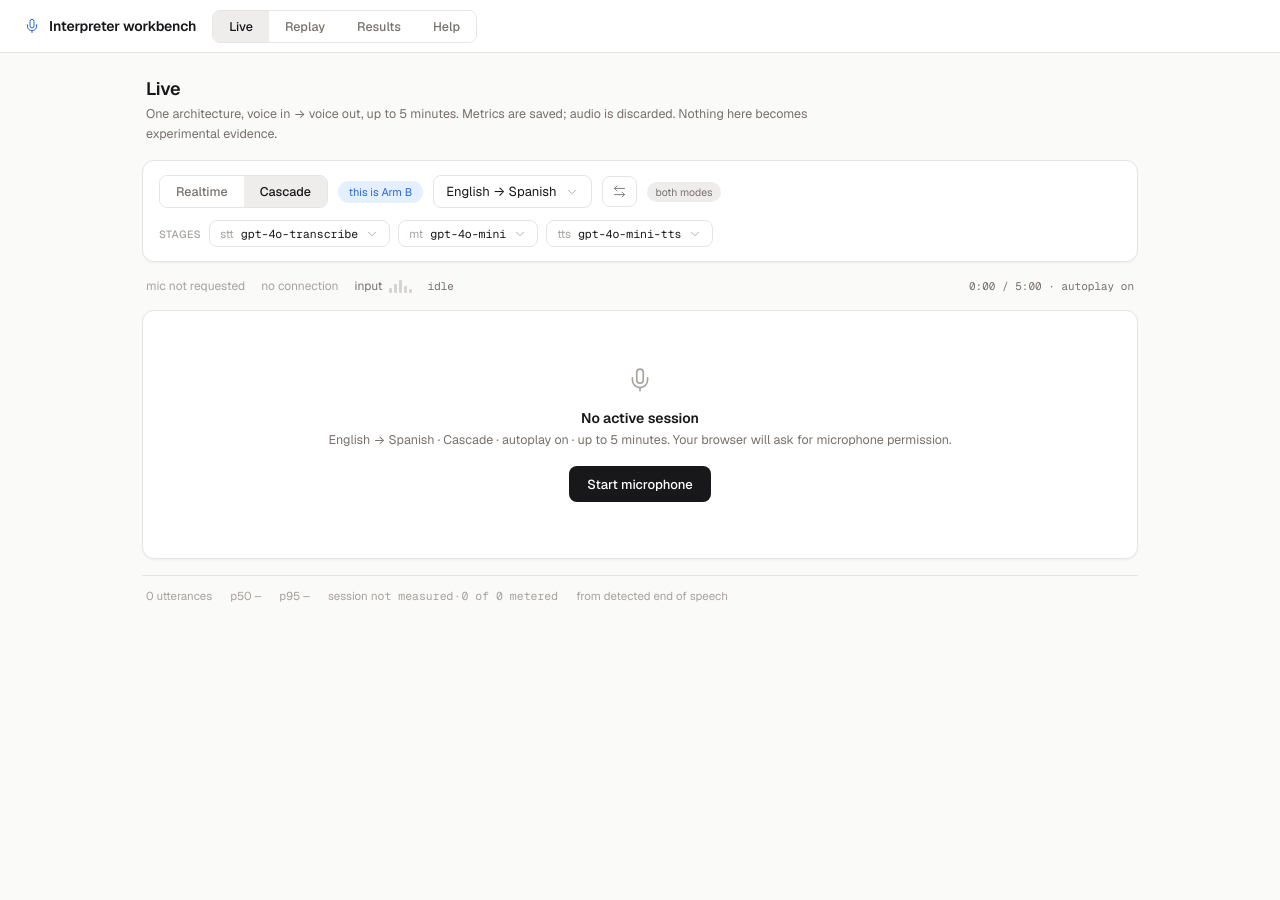
a hostile AudioContext does not kill a Live session (ticket 049) › CASCADE: the first audio chunk does not wedge the session — it settles and runs on
The width and height of the screenshot is (1280, 900).
Step 1. Click the button "Start microphone" → (640, 484), box top-left (569, 466), bottom-right (711, 502)
Wait 1300 ms
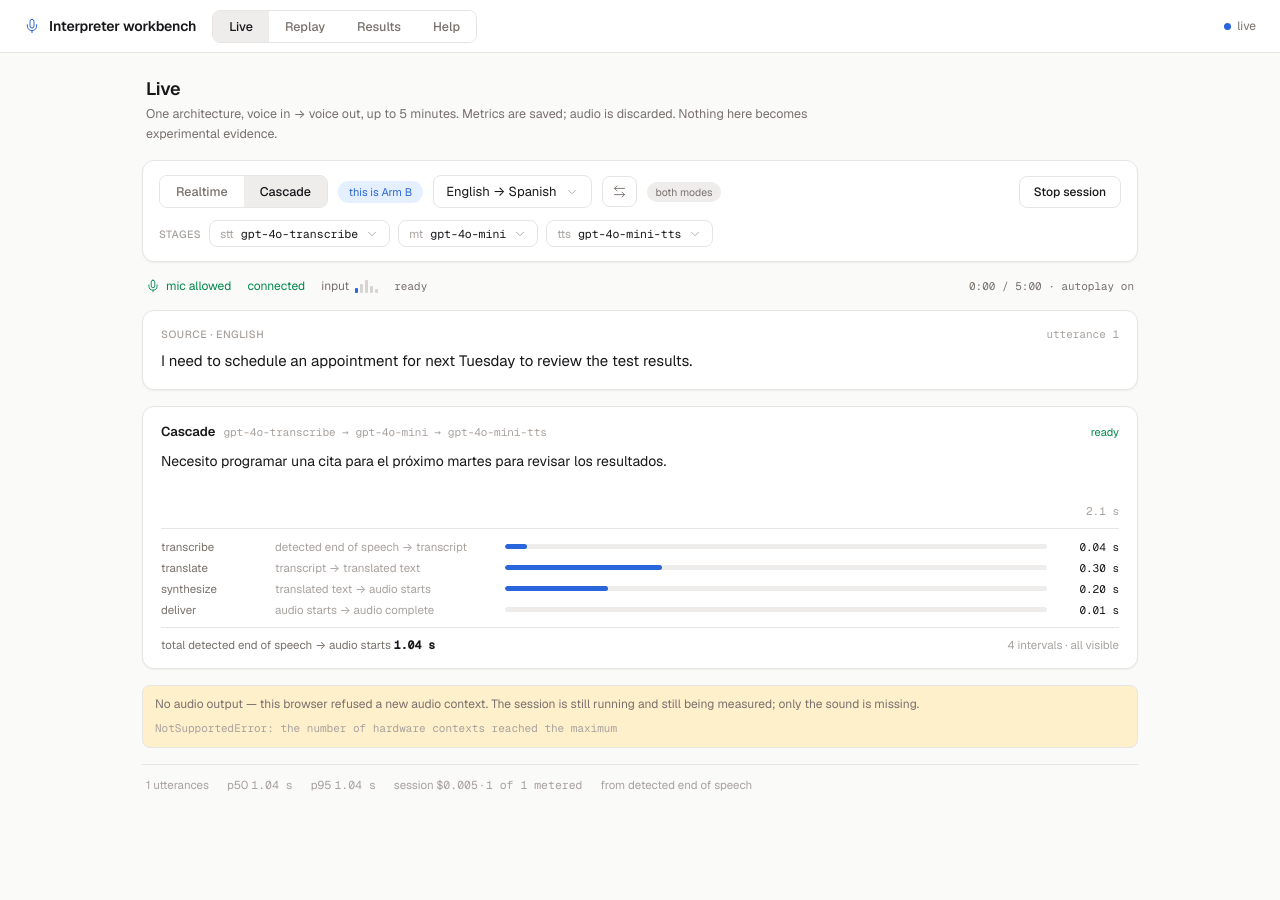
Expected: the button "Stop session" is shown, top-left (1019, 176), bottom-right (1121, 208)
Expected: the element that starts with "Cascade" shows "Necesito programar una cita", top-left (161, 452), bottom-right (666, 470)
